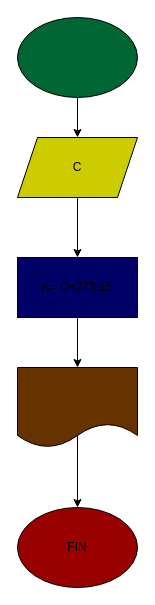
Image size: 155x605. Some labels were removed from this diagram. Each missing label, with the centre of its shape:
"F,K" goes at (77,407).
"INICIO" goes at (77,57).
